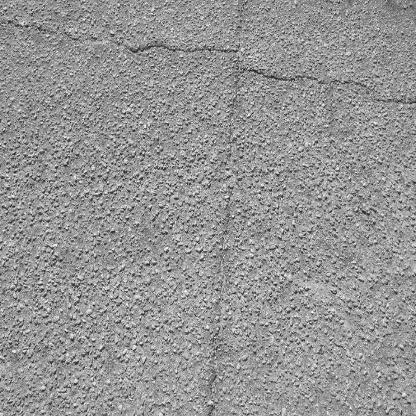Cracks: (204, 64, 416, 416), (0, 0, 249, 62)
